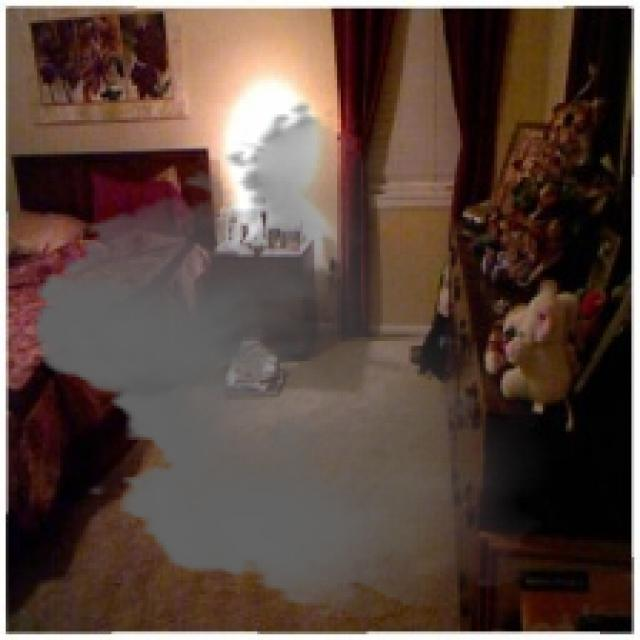smoke: (14, 100, 560, 617)
